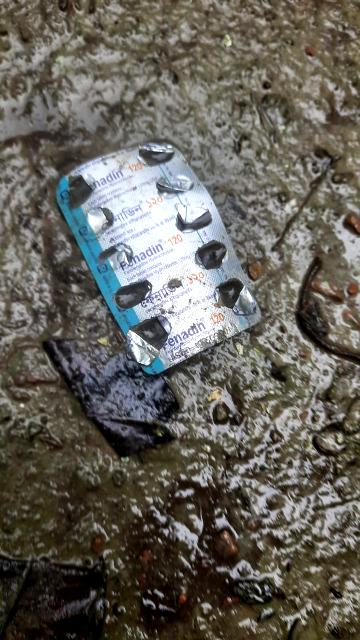medicine: (54, 114, 272, 381)
